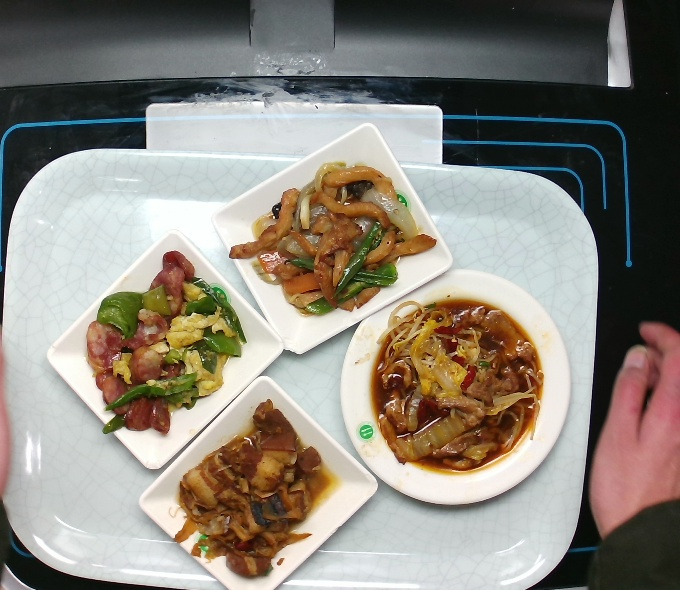wcq-HongShaoRou: (171, 399, 337, 580)
wcq-QingJiaoJiDanChaoDaChang: (83, 248, 247, 439)
wcq-QingJiaoRouSi: (227, 159, 439, 317)
wcq-ShuiZhuRouPian: (371, 298, 544, 476)
